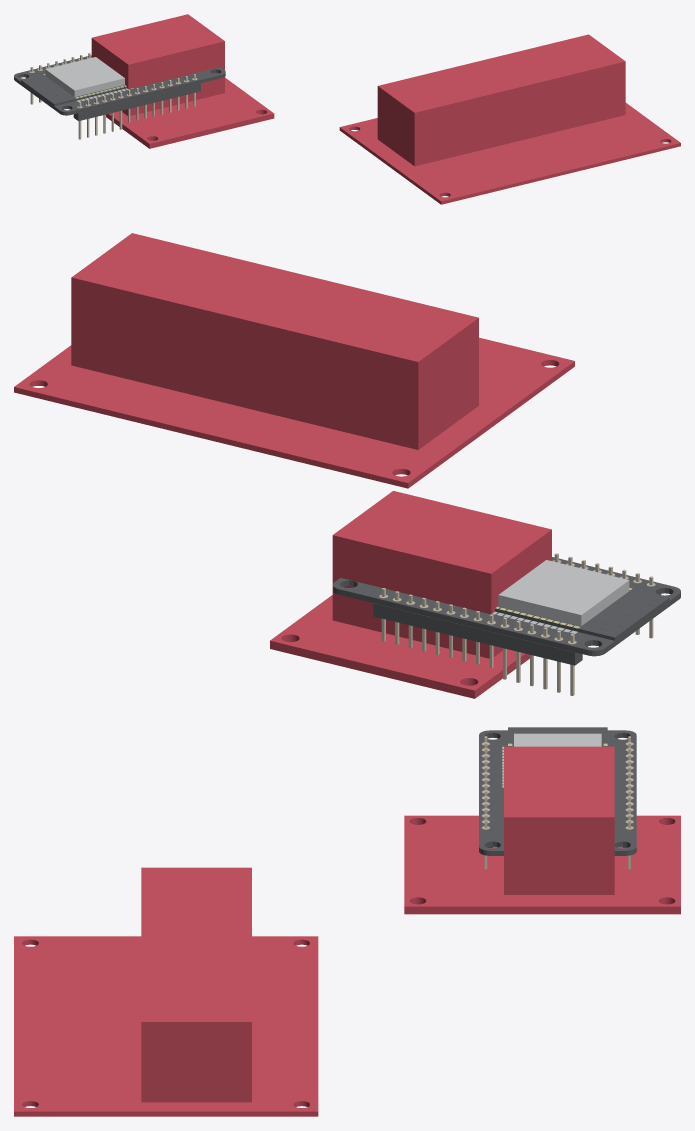
File: FabulousKieran.glb
3 renders of one model, top to bottom at view 1: azimuth 30°, elevation 25°; view 2: azimuth 150°, elevation 25°; view 3: azimuth 270°, elevation 25°, orthographic. The views are drawn at different scales.
Parts seen in each view (by area): view 1: Mesh_Mesh_head_geo.001_lambert2SG.001; view 2: Mesh_Mesh_head_geo.001_lambert2SG.001; view 3: Mesh_Mesh_head_geo.001_lambert2SG.001.
Boxes of the visible parts, x1,y1,x2,y2 form: Mesh_Mesh_head_geo.001_lambert2SG.001: (14,14,680,204); Mesh_Mesh_head_geo.001_lambert2SG.001: (14,233,680,698); Mesh_Mesh_head_geo.001_lambert2SG.001: (14,727,680,1116).
Size of the model in its own units: 0.1445 by 0.017 by 0.1205.
